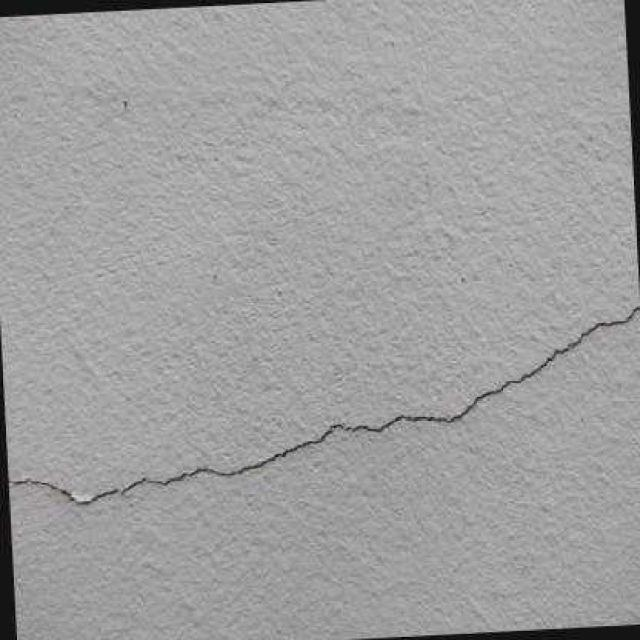D00: (8, 305, 640, 505)
